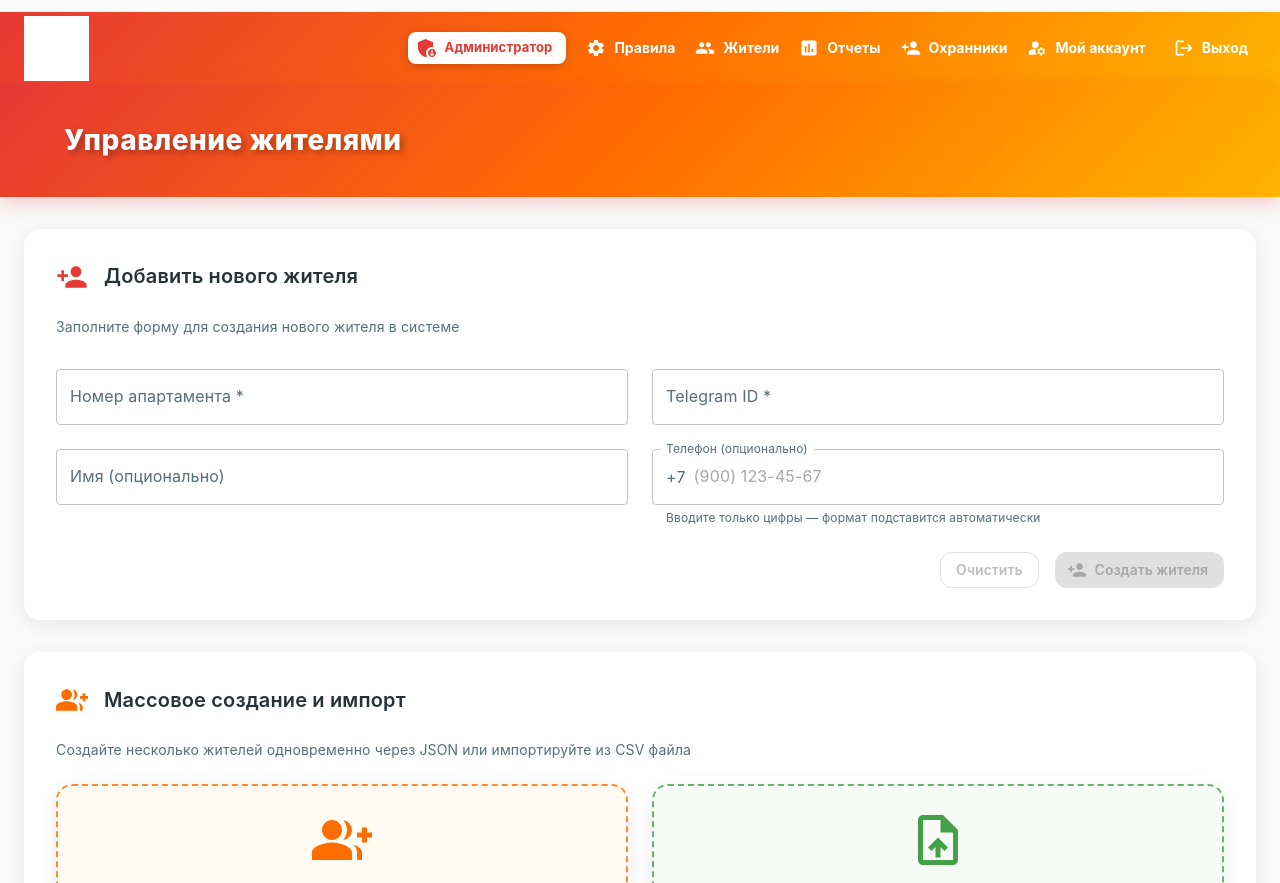
Scenario: AdminResidentsPage › create form › creates a resident on valid submit
Type "201" into the field labelled "Номер апартамента *" at (342, 397), box left=56, top=369, right=628, bottom=425
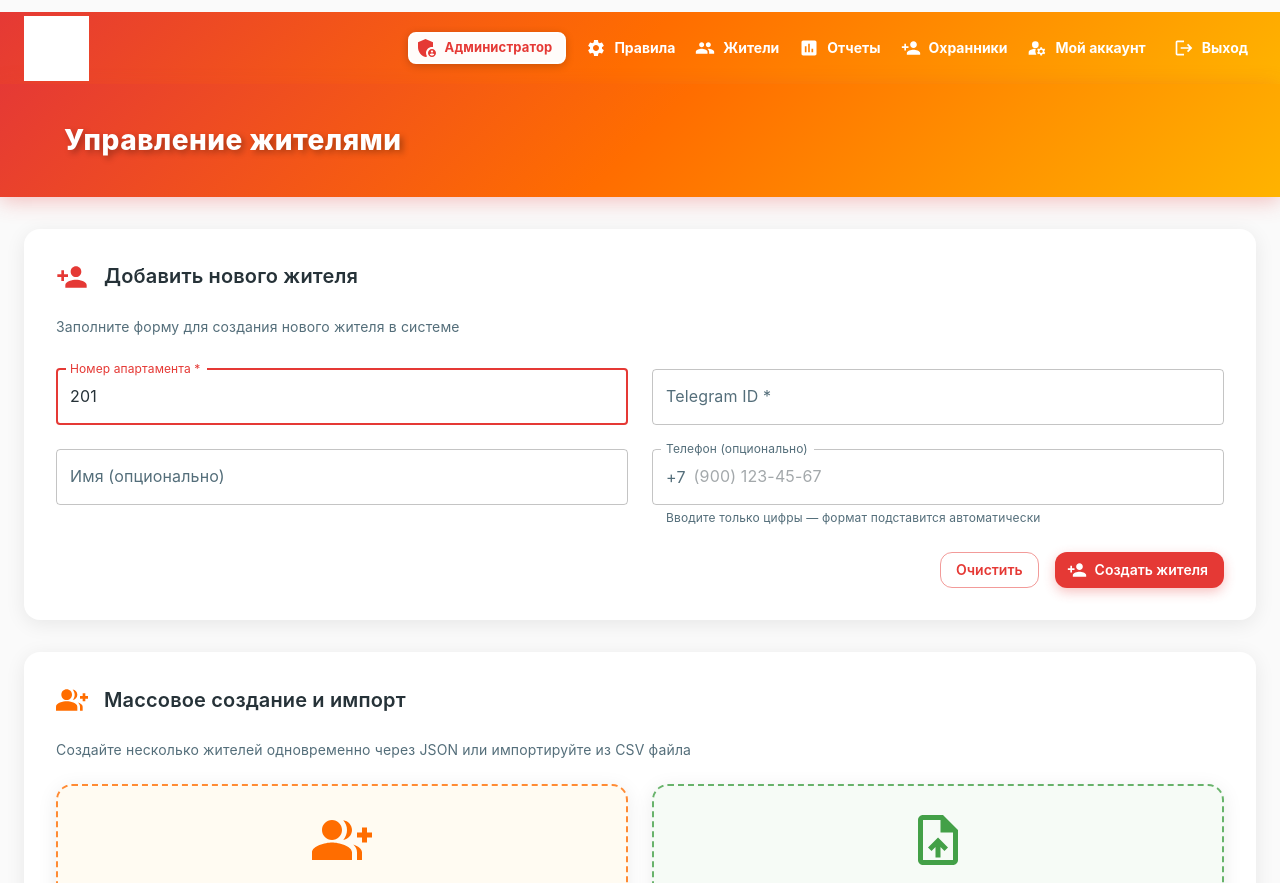
Type "999888777" into the number field labelled "Telegram ID *" at (938, 397), box left=652, top=369, right=1224, bottom=425
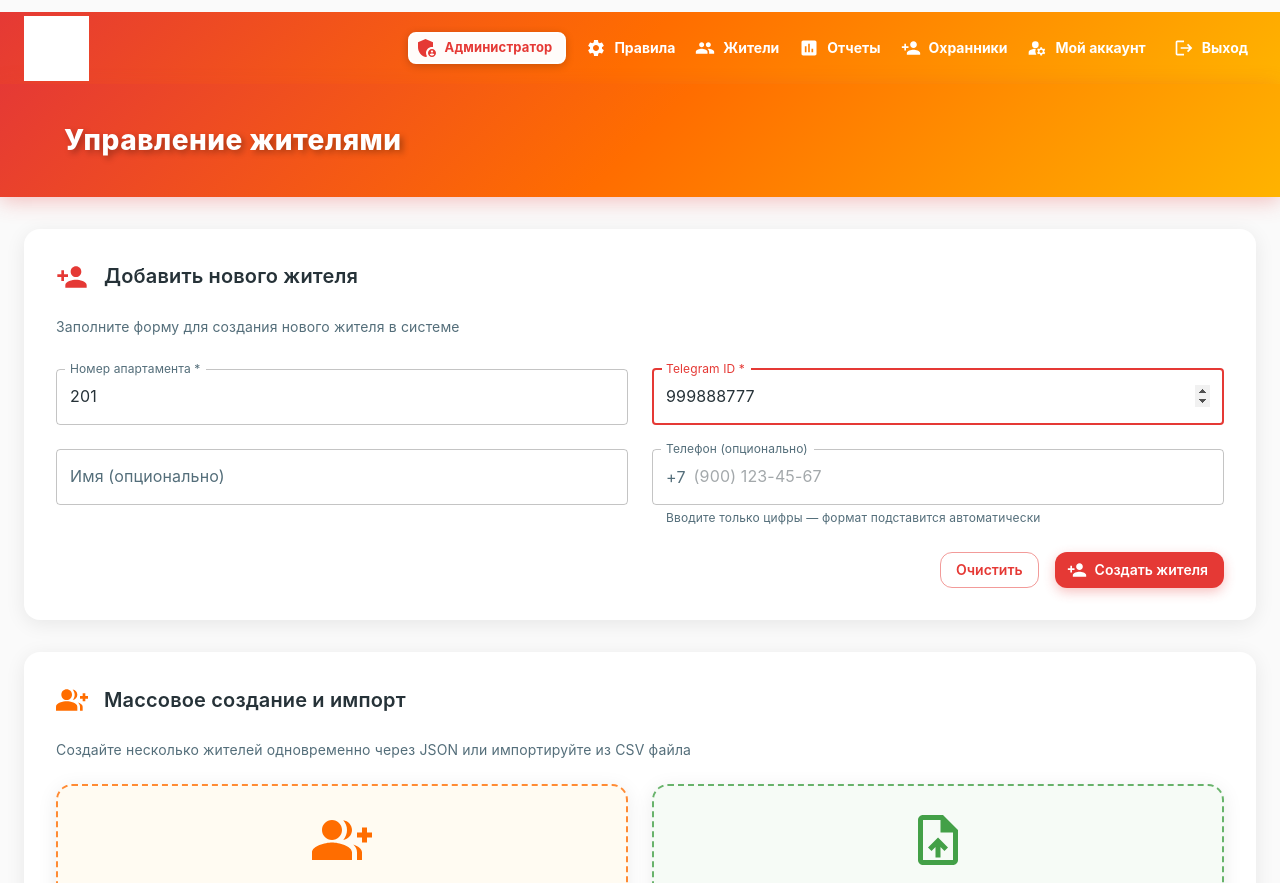
Type "Тестовый Житель" into the field labelled "Имя (опционально)" at (342, 477), box left=56, top=449, right=628, bottom=505
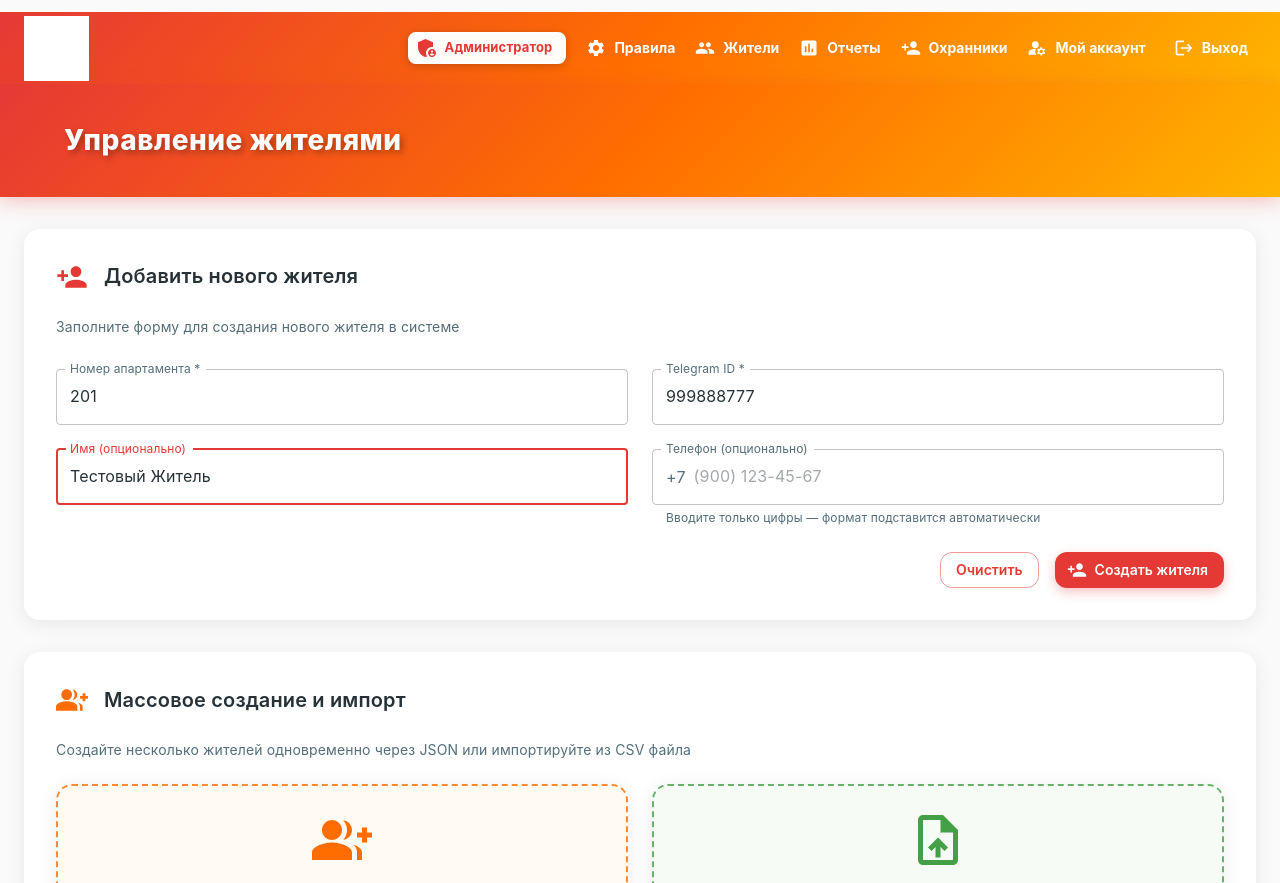
Click the button "Создать жителя" at (1139, 570), box left=1055, top=552, right=1224, bottom=588
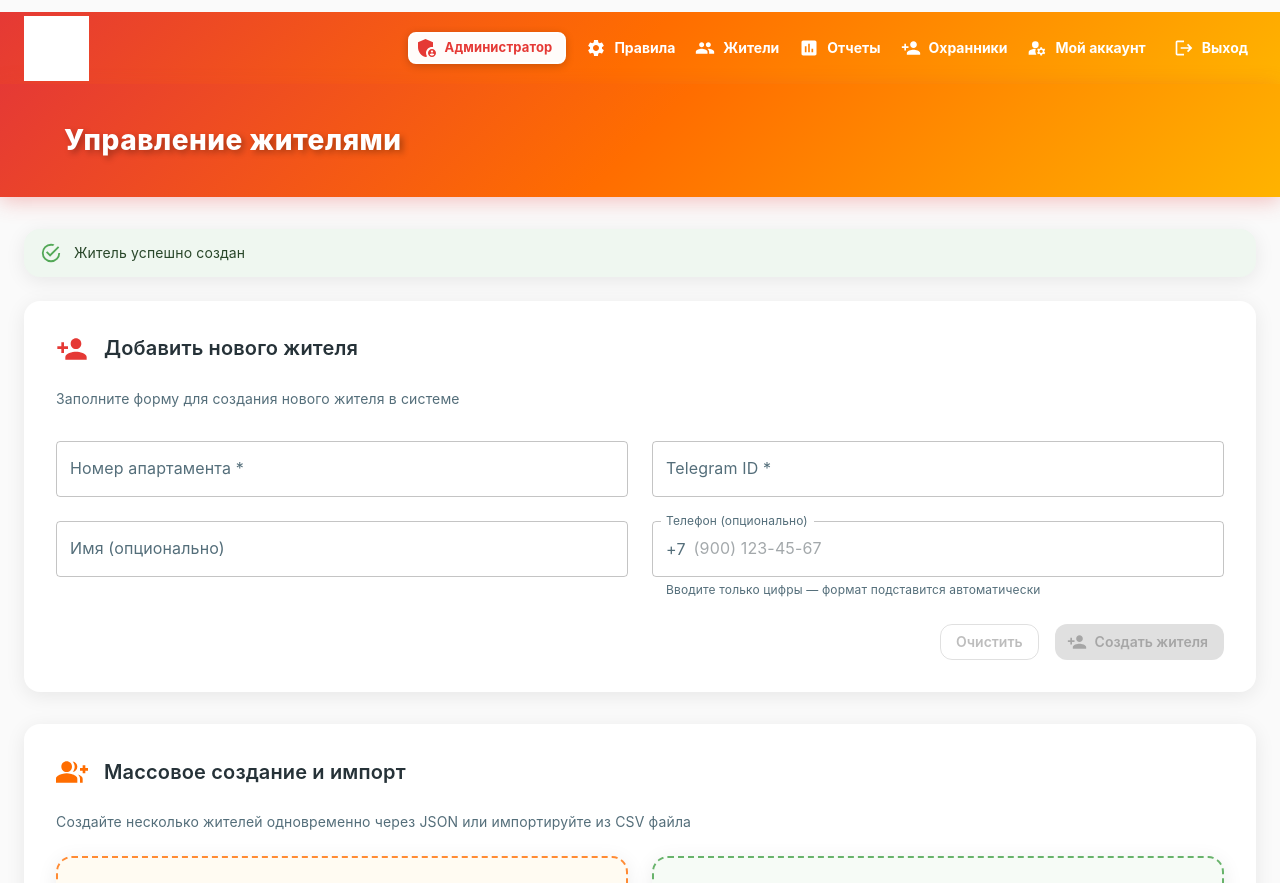
Now the text "Житель успешно создан" is shown, box left=74, top=244, right=245, bottom=261
